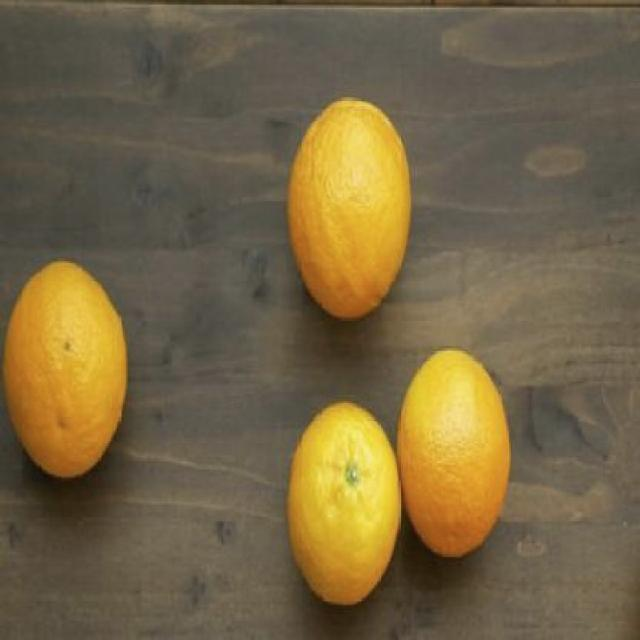Jeruk Sudah Matang: (286, 92, 412, 325), (0, 261, 128, 484), (396, 346, 512, 560), (286, 402, 403, 607)
